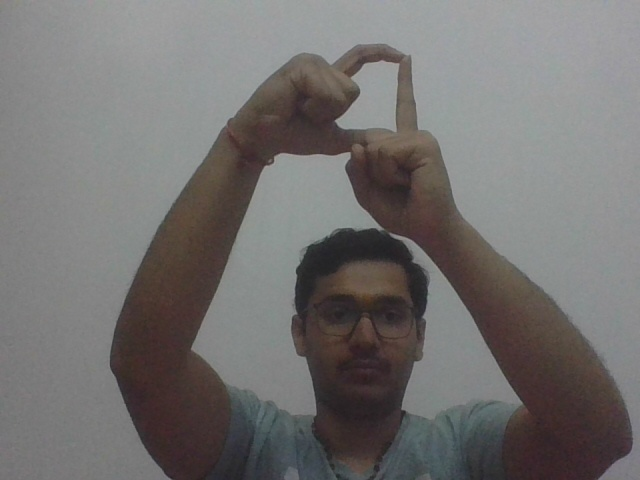D: (272, 39, 457, 232)
